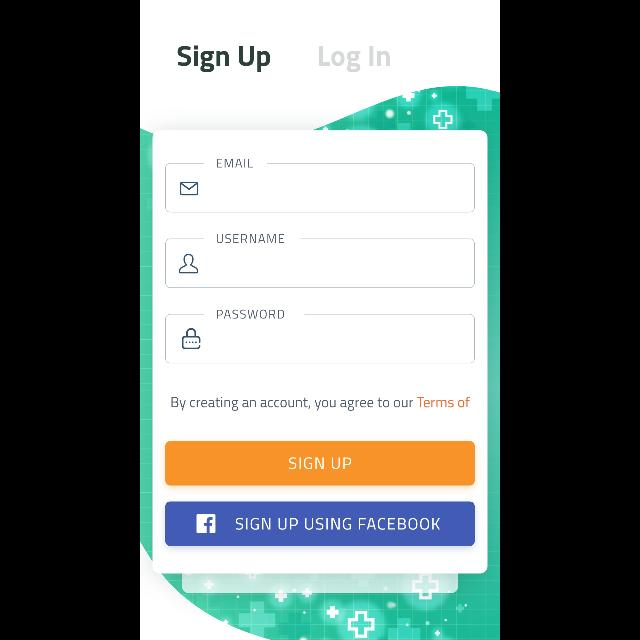icon: (179, 254, 199, 274), (182, 328, 200, 349), (180, 182, 198, 196)
input: (166, 159, 474, 213), (166, 234, 474, 288), (166, 310, 474, 364)
text: (172, 397, 470, 411), (178, 46, 270, 72), (318, 47, 389, 73), (218, 234, 284, 243), (218, 310, 284, 318), (217, 158, 253, 168)
textbutton: (166, 441, 474, 485), (166, 502, 474, 546)
